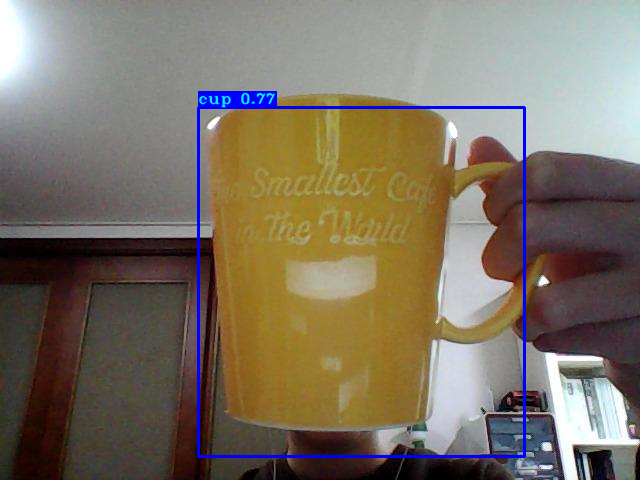cup: (198, 107, 524, 456)
